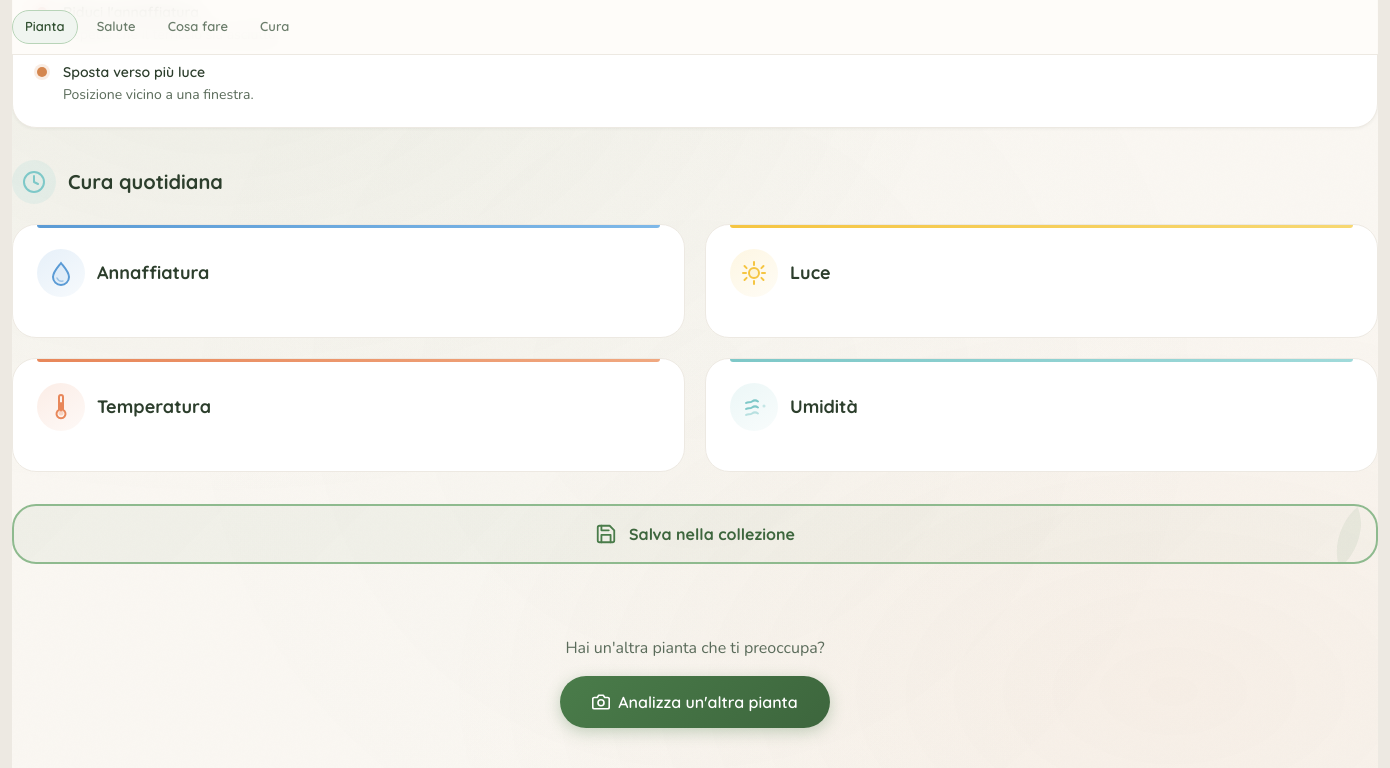
Test: Pulsante salva nella collezione › mostra stato di caricamento durante il salvataggio
(page scrolled)
Click the button "Salva nella collezione": (695, 534) 12,504 -> 1378,564
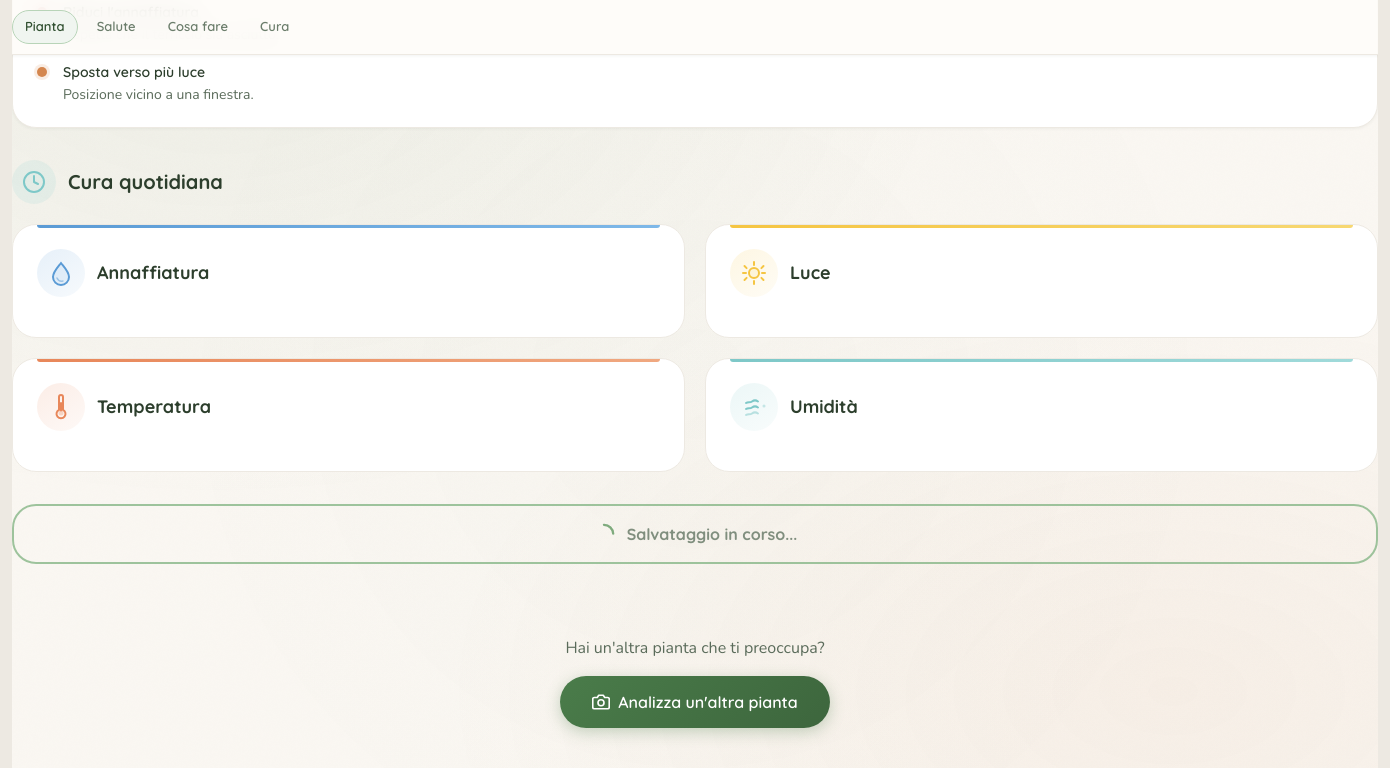
Check: the text "Salvataggio in corso..." is shown, box 627,522 -> 797,546
